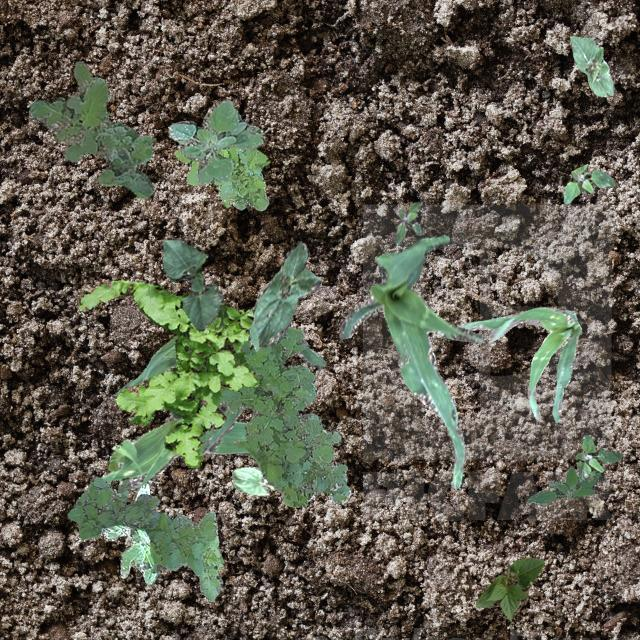crop: (338, 233, 482, 488), (116, 332, 324, 454), (456, 306, 580, 422), (100, 409, 250, 492), (248, 240, 320, 350), (160, 236, 222, 330), (474, 556, 544, 620), (568, 34, 614, 96), (230, 466, 274, 494)
weed: (75, 279, 258, 466), (218, 326, 349, 507), (66, 476, 222, 600), (28, 59, 152, 198), (166, 98, 262, 184), (174, 138, 268, 210), (100, 482, 158, 584), (526, 466, 600, 504), (574, 434, 622, 481), (562, 163, 614, 203), (392, 200, 422, 244)
